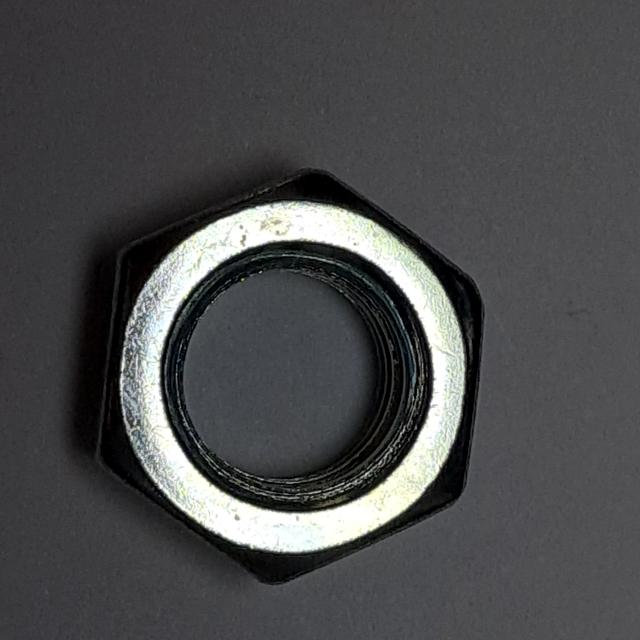Excellent: (83, 149, 497, 600)
